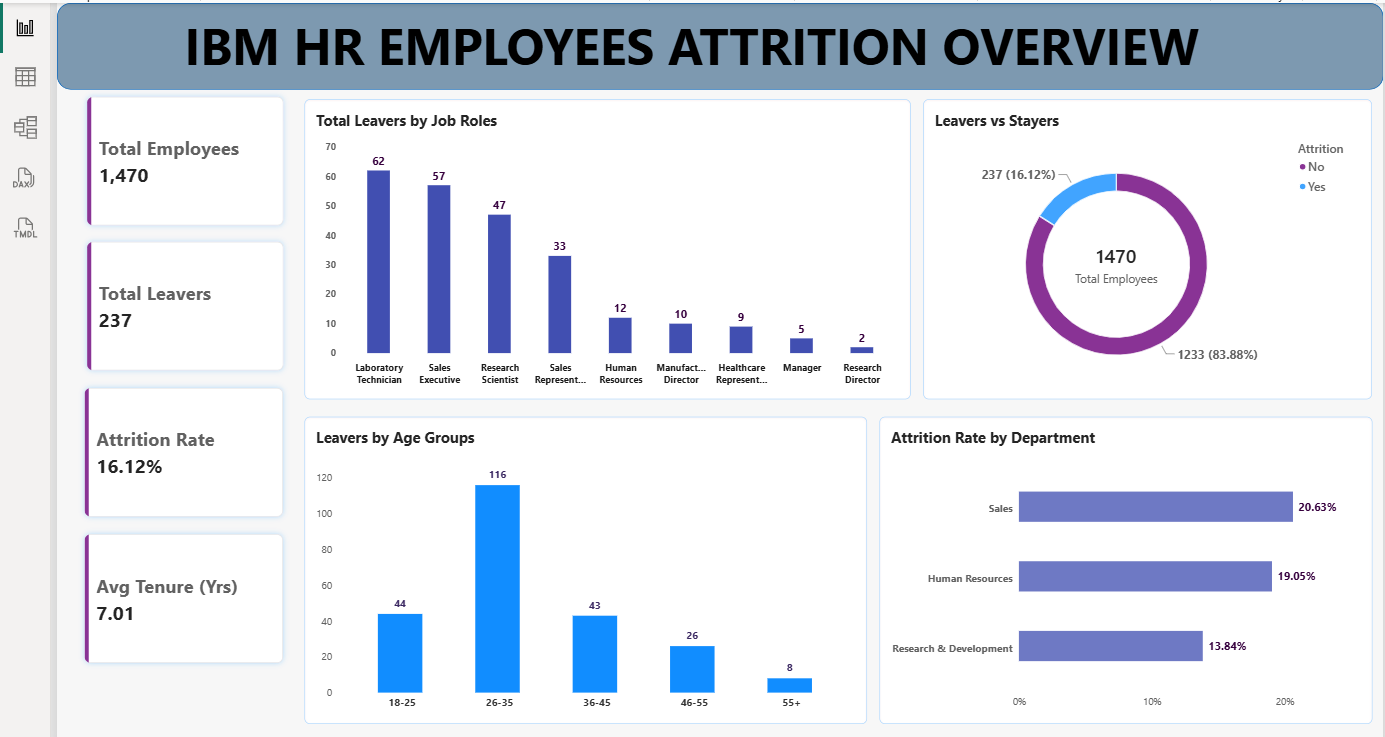

The dashboard page shown, as its layout file describes it:
{"tool":"powerbi","page":{"name":"Page 1","canvas":[1920,1080],"ordinal":0},"visuals":[{"type":"shape","box":[0,0,1920.4,125.4],"z":0},{"type":"textbox","box":[58.4,12.8,1690.6,113.1],"z":1000},{"type":"cardVisual","fields":{"Data":["IBM HR Analytics Employee Attrition.Total Employees"]},"box":[33.2,125.4,306.2,208.5],"z":2000},{"type":"cardVisual","fields":{"Data":["IBM HR Analytics Employee Attrition.Total Leavers"]},"box":[33.2,333.9,306.2,208.5],"z":3000},{"type":"cardVisual","fields":{"Data":["IBM HR Analytics Employee Attrition.Attrition Rate"]},"box":[29.5,546,309.9,208.5],"z":4000},{"type":"cardVisual","fields":{"Data":["IBM HR Analytics Employee Attrition.Average Tenure"]},"box":[29.5,758.2,309.9,208.5],"z":5000},{"type":"barChart","title":"Attrition Rate by Department","fields":{"Category":["IBM HR Analytics Employee Attrition.Department"],"Y":["IBM HR Analytics Employee Attrition.Attrition Rate"]},"box":[1189.9,599.5,713.9,444.6],"z":6000},{"type":"ribbonChart","title":"Total Leavers by Job Roles","fields":{"Category":["IBM HR Analytics Employee Attrition.JobRole"],"Y":["IBM HR Analytics Employee Attrition.Total Leavers"]},"box":[358.3,139.3,877.7,434.3],"z":7000},{"type":"donutChart","title":"Leavers vs Stayers","fields":{"Category":["IBM HR Analytics Employee Attrition.Attrition"],"Y":["IBM HR Analytics Employee Attrition.Total Employees"]},"box":[1254.1,139.3,649.7,434.3],"z":8000},{"type":"clusteredColumnChart","title":"Leavers by Age Groups","fields":{"Category":["IBM HR Analytics Employee Attrition.Age Group"],"Y":["IBM HR Analytics Employee Attrition.Total Leavers"]},"box":[358.3,599,814.3,445.2],"z":9000}]}

Visuals, with their boxes on the page's 1920x1080 design canvas (x1, y1, x2, y2). These are canvas units, not pixel positions in the 1385x737 screenshot, which may show the page scaled, cropped or inside an application window:
shape: region(0, 0, 1920, 125)
textbox: region(58, 13, 1749, 126)
cardVisual - IBM HR Analytics Employee Attrition.Total Employees: region(33, 125, 339, 334)
cardVisual - IBM HR Analytics Employee Attrition.Total Leavers: region(33, 334, 339, 542)
cardVisual - IBM HR Analytics Employee Attrition.Attrition Rate: region(30, 546, 339, 754)
cardVisual - IBM HR Analytics Employee Attrition.Average Tenure: region(30, 758, 339, 967)
"Attrition Rate by Department" barChart: region(1190, 600, 1904, 1044)
"Total Leavers by Job Roles" ribbonChart: region(358, 139, 1236, 574)
"Leavers vs Stayers" donutChart: region(1254, 139, 1904, 574)
"Leavers by Age Groups" clusteredColumnChart: region(358, 599, 1173, 1044)
